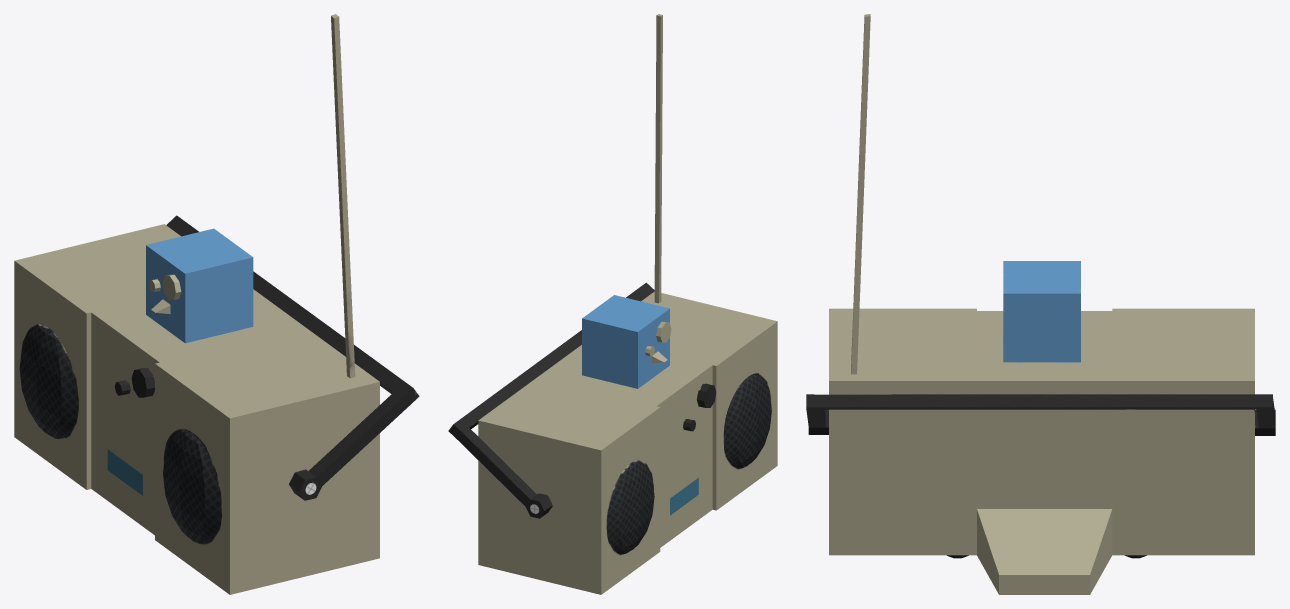
The model's file is robot.fbx.
3 renders of one model, left to right at view 1: azimuth 30°, elevation 25°; view 2: azimuth 150°, elevation 25°; view 3: azimuth 270°, elevation 25°, orthographic. The views are drawn at different scales.
Parts seen in each view (by area): view 1: pCylinder13; view 2: pCylinder13; view 3: pCylinder13.
Boxes of the visible parts, x1,y1,x2,y2 form: pCylinder13: (14,14,419,594); pCylinder13: (448,14,777,594); pCylinder13: (806,14,1275,594).
Size of the model in its own units: 15.81 by 38.5 by 29.82.
